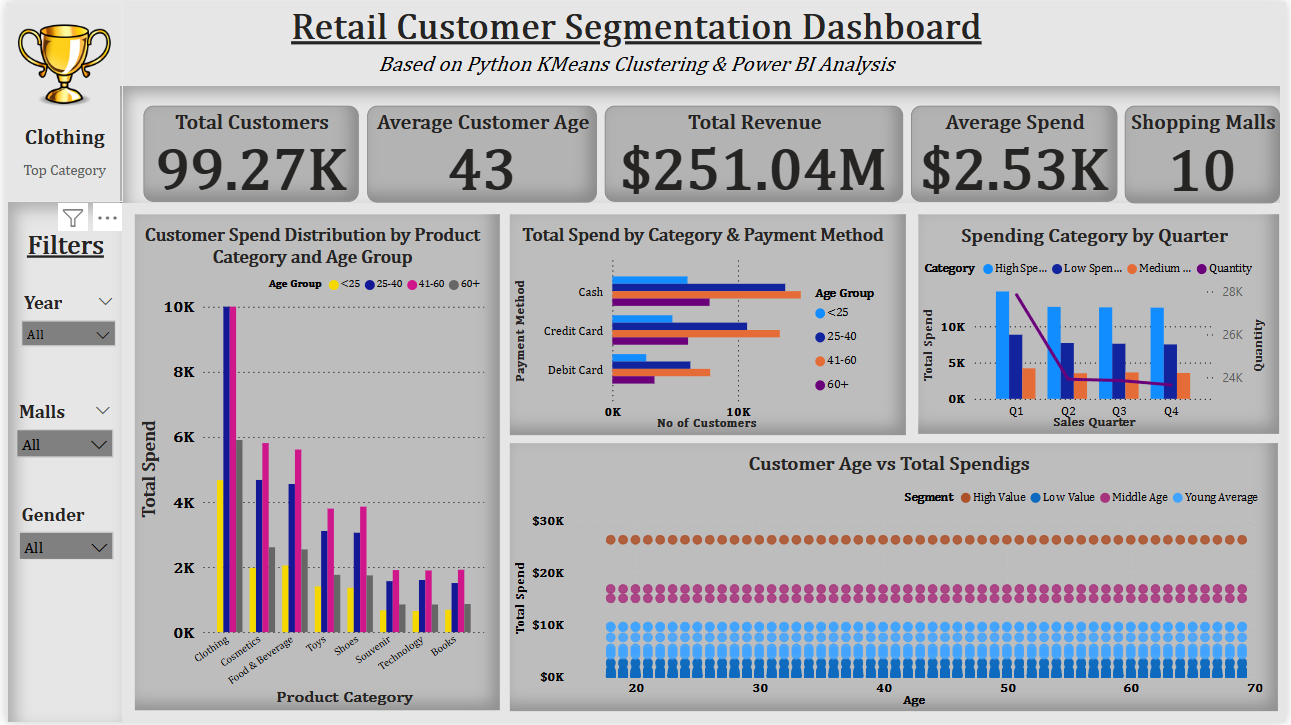

This screenshot's page, from the dashboard's own definition file:
{"tool":"powerbi","page":{"name":"Page 1","canvas":[1280,720],"ordinal":0},"visuals":[{"type":"textbox","box":[11.2,0,1238.2,64.5],"z":0},{"type":"textbox","box":[347.8,46.3,565.1,36.5],"z":1000},{"type":"group","id":"g1","title":"Group 1","box":[113.8,84,1160.2,117.5],"z":2000},{"type":"shape","box":[113.8,84,1160,117.5],"z":2000,"group":"g1"},{"type":"shape","box":[2.4,200.3,113.8,520],"z":2000,"group":"g2"},{"type":"card","title":"Total Customers","fields":{"Values":["Count(segmented.customer_id)"]},"box":[137,103.5,215,96.2],"z":3000,"group":"g1"},{"type":"textbox","box":[5,223.8,108.8,43.8],"z":3000},{"type":"card","title":"Total Revenue","fields":{"Values":["Sum(segmented.total_spend)"]},"box":[599,103.5,298,96.2],"z":4000,"group":"g1"},{"type":"group","id":"g2","title":"Group 2","box":[0,200.3,119.2,520],"z":4000},{"type":"slicer","fields":{"Values":["segmented.gender"]},"box":[2.4,496.8,114.4,84.6],"z":4000,"group":"g2"},{"type":"card","title":"Shopping Malls","fields":{"Values":["Count(segmented.shopping_mall)"]},"box":[1119,104,155,97.5],"z":5000,"group":"g1"},{"type":"scatterChart","title":"Customer Age vs Total Spendigs","fields":{"X":["segmented.age"],"Y":["segmented.total_spend"],"Series":["segmented.Segment_Label"]},"box":[504,441.1,768,268.2],"z":6000},{"type":"card","title":"Average Spend","fields":{"Values":["segmented.Average Spend"]},"box":[905,104,206.2,96.2],"z":7000,"group":"g1"},{"type":"lineClusteredColumnComboChart","title":"Spending Category by Quarter","fields":{"Category":["segmented.sales_quarter"],"Y":["CountNonNull(segmented.total_spend)"],"Series":["segmented.spending_category"],"Y2":["CountNonNull(segmented.quantity)"]},"box":[912,212.2,361.2,219.3],"z":7000},{"type":"slicer","fields":{"Values":["segmented.invoice_date.Variation.Date Hierarchy.Year"]},"box":[4.8,285.8,114.4,71.5],"z":7000,"group":"g2"},{"type":"card","title":"Average Customer Age","fields":{"Values":["segmented.Avg Age"]},"box":[361,103.5,229.8,96.4],"z":8000,"group":"g1"},{"type":"clusteredBarChart","title":"Total Spend by Category & Payment Method","fields":{"Category":["segmented.payment_method"],"Series":["segmented.age_group"],"Y":["CountNonNull(segmented.invoice_no)"]},"box":[504,212.2,395.8,220.5],"z":8000},{"type":"clusteredColumnChart","title":"Customer Spend Distribution by Product Category and Age Group","fields":{"Category":["segmented.category"],"Series":["segmented.age_group"],"Y":["CountNonNull(segmented.total_spend)"]},"box":[128.7,212.2,364.8,495.9],"z":9000},{"type":"cardVisual","fields":{"Data":["segmented.Top Category"]},"box":[0,0,117.5,200],"z":9001},{"type":"slicer","fields":{"Values":["segmented.shopping_mall"]},"box":[0,394.3,116.8,73.9],"z":9001,"group":"g2"}]}

Visuals, with their boxes in screenshot pixels (x1, y1, x2, y2), scaled from the page's 1280x720 canvas onto the 1291x725 screenshot:
textbox: locate(11, 0, 1260, 65)
textbox: locate(351, 47, 921, 83)
"Group 1" group: locate(115, 85, 1285, 203)
shape: locate(115, 85, 1285, 203)
shape: locate(2, 202, 117, 724)
"Total Customers" card: locate(138, 104, 355, 201)
textbox: locate(5, 225, 115, 269)
"Total Revenue" card: locate(604, 104, 905, 201)
"Group 2" group: locate(0, 202, 120, 724)
slicer - segmented.gender: locate(2, 500, 118, 585)
"Shopping Malls" card: locate(1129, 105, 1285, 203)
"Customer Age vs Total Spendigs" scatterChart: locate(508, 444, 1283, 714)
"Average Spend" card: locate(913, 105, 1121, 202)
"Spending Category by Quarter" lineClusteredColumnComboChart: locate(920, 214, 1284, 434)
slicer - segmented.invoice_date.Variation.Date Hierarchy.Year: locate(5, 288, 120, 360)
"Average Customer Age" card: locate(364, 104, 596, 201)
"Total Spend by Category & Payment Method" clusteredBarChart: locate(508, 214, 908, 436)
"Customer Spend Distribution by Product Category and Age Group" clusteredColumnChart: locate(130, 214, 498, 713)
cardVisual - segmented.Top Category: locate(0, 0, 119, 201)
slicer - segmented.shopping_mall: locate(0, 397, 118, 471)
